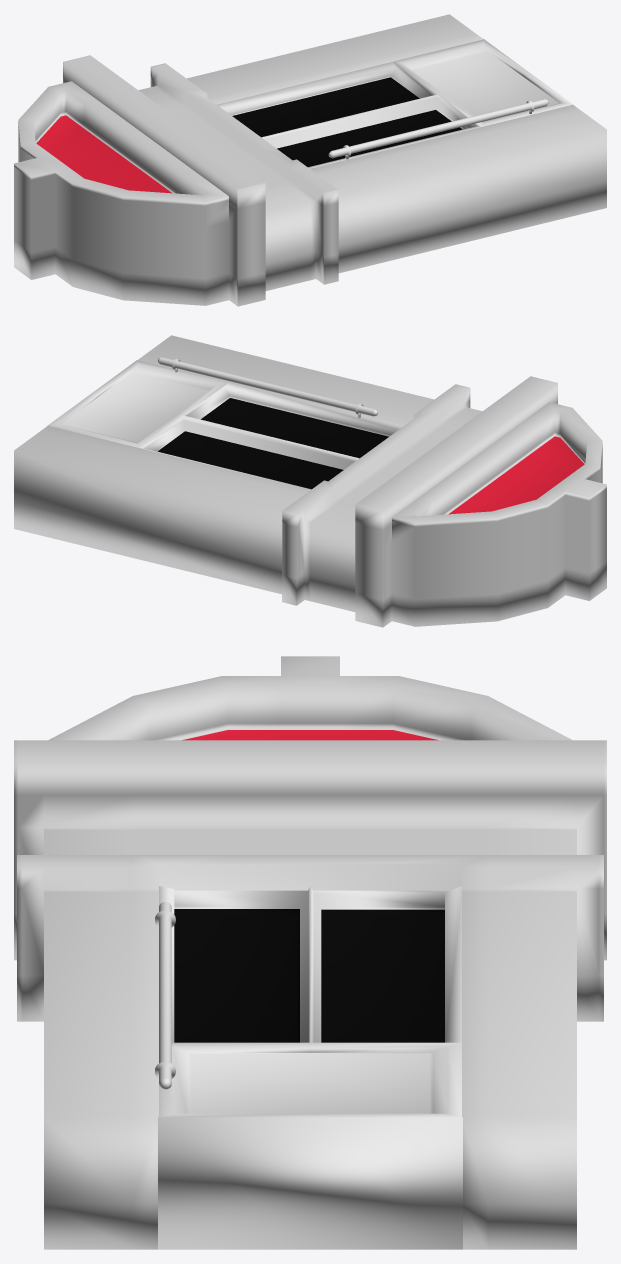
Rendered from door.fbx.
3 renders of one model, top to bottom at view 1: azimuth 30°, elevation 25°; view 2: azimuth 150°, elevation 25°; view 3: azimuth 270°, elevation 25°, orthographic. The views are drawn at different scales.
Parts seen in each view (by area): view 1: Cube.285, Cube.283, Cylinder.010; view 2: Cube.285, Cube.283, Cylinder.010; view 3: Cube.285, Cube.283, Cylinder.010.
Boxes of the visible parts, box(x1,y1,x2,y2) form: Cube.285: box(14, 14, 606, 306); Cube.283: box(217, 39, 573, 168); Cylinder.010: box(328, 99, 548, 159); Cube.285: box(14, 335, 606, 627); Cube.283: box(47, 360, 403, 489); Cylinder.010: box(158, 357, 377, 418); Cube.285: box(14, 656, 606, 1249); Cube.283: box(158, 886, 462, 1249); Cylinder.010: box(155, 901, 175, 1089).
Bounding box in the file's own units: 1262 × 278 × 756.
